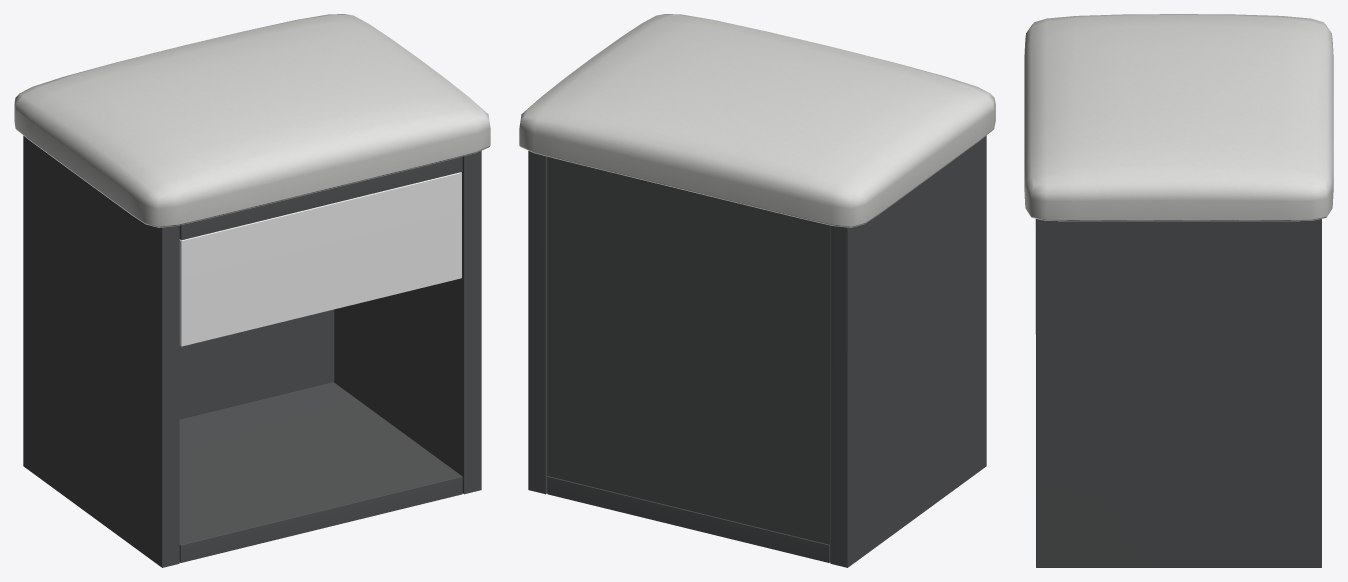
Rendered from chair_56_02.001.fbx.
3 views of the same model, side by side, from view 1: azimuth 30°, elevation 25°; view 2: azimuth 150°, elevation 25°; view 3: azimuth 270°, elevation 25° (orthographic). The views are drawn at different scales.
Visible parts, largest first — view 1: chair_56_02.001; view 2: chair_56_02.001; view 3: chair_56_02.001.
Boxes of the visible parts, x1,y1,x2,y2 form: chair_56_02.001: (14, 14, 490, 567); chair_56_02.001: (519, 14, 995, 567); chair_56_02.001: (1024, 14, 1333, 567).
Size of the model in its own units: 43.23 by 47.27 by 32.42.
1 material, 1 textured.
